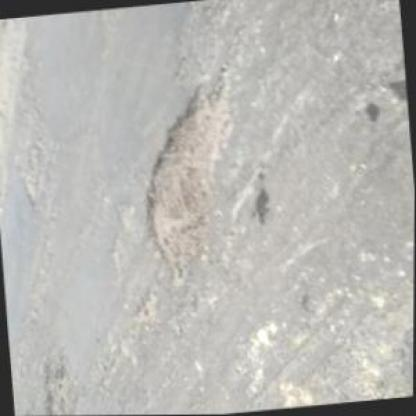pothole: (130, 68, 248, 277), (38, 346, 80, 414), (17, 136, 44, 207)
